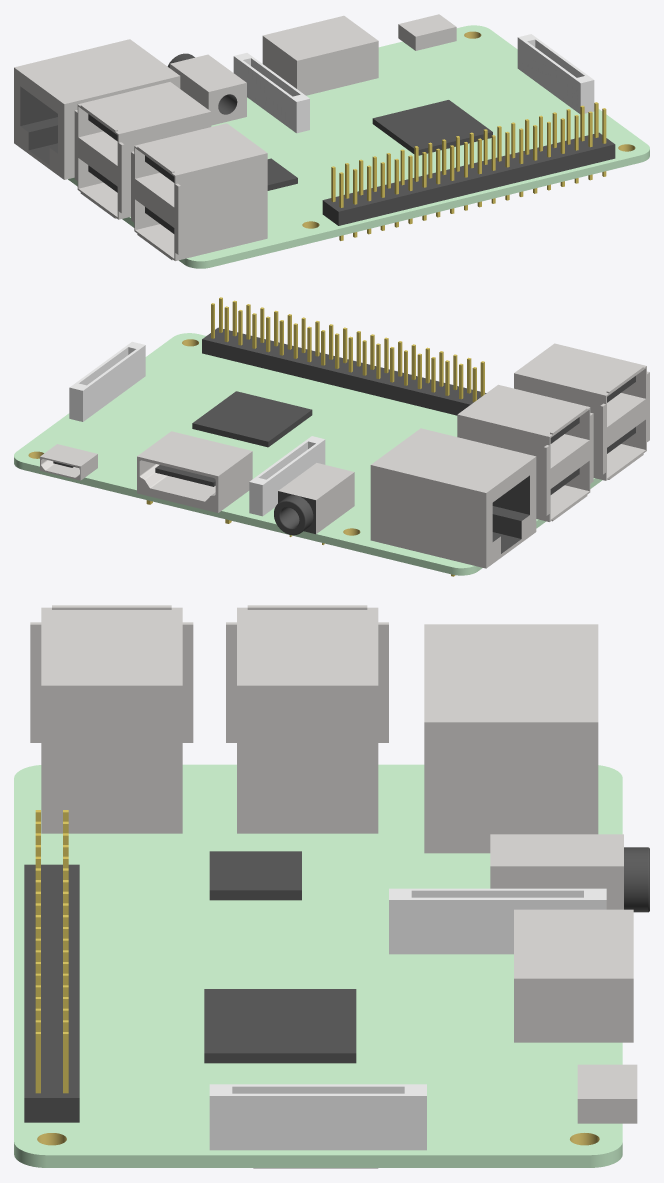
The model's file is raspi.dae.
3 renders of one model, top to bottom at view 1: azimuth 30°, elevation 25°; view 2: azimuth 150°, elevation 25°; view 3: azimuth 270°, elevation 25°, orthographic. The views are drawn at different scales.
Parts seen in each view (by area): view 1: raspi; view 2: raspi; view 3: raspi.
Part boxes in pixels (x1,y1,x2,y2): raspi: (14,14,649,268); raspi: (14,297,649,576); raspi: (14,605,649,1168).
Size of the model in its own units: 87 by 58.5 by 18.55.
